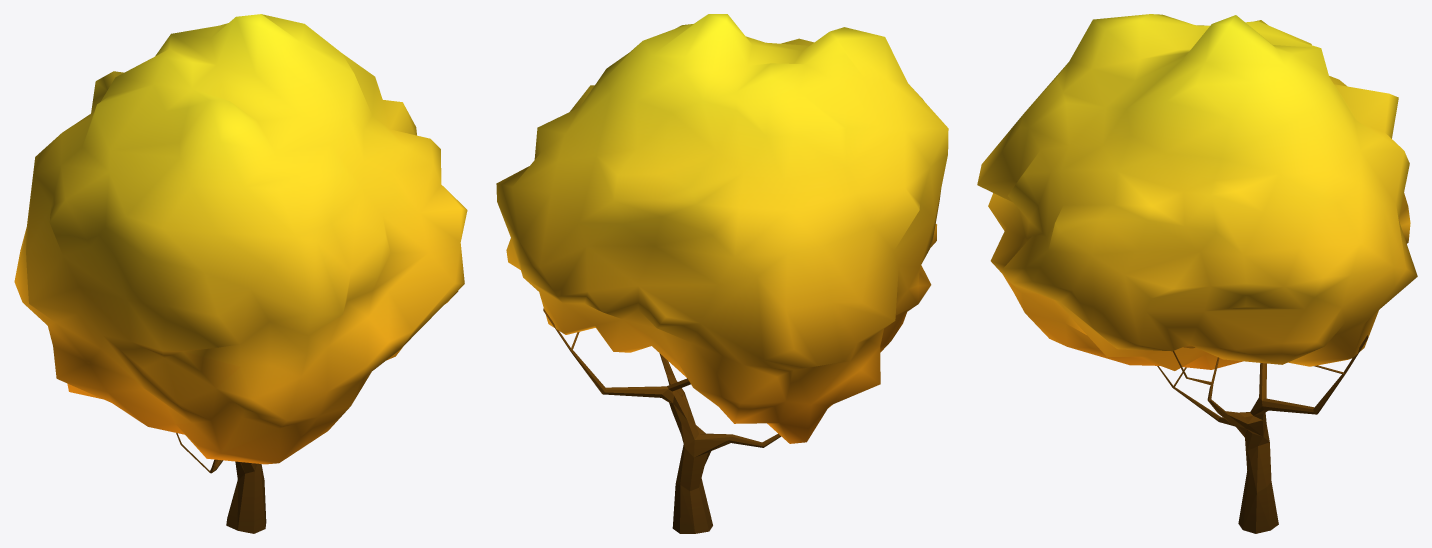
Rendered from Arbol1.fbx.
3 views of the same model, side by side, from view 1: azimuth 30°, elevation 25°; view 2: azimuth 150°, elevation 25°; view 3: azimuth 270°, elevation 25° (orthographic). The views are drawn at different scales.
Visible parts, largest first — view 1: Arbol1; view 2: Arbol1; view 3: Arbol1.
Part boxes in pixels (x1,y1,x2,y2): Arbol1: (14,14,467,533); Arbol1: (496,14,948,533); Arbol1: (977,14,1417,533).
Size of the model in its own units: 445 by 572 by 457.
Materials: 1 (1 with a texture image).
